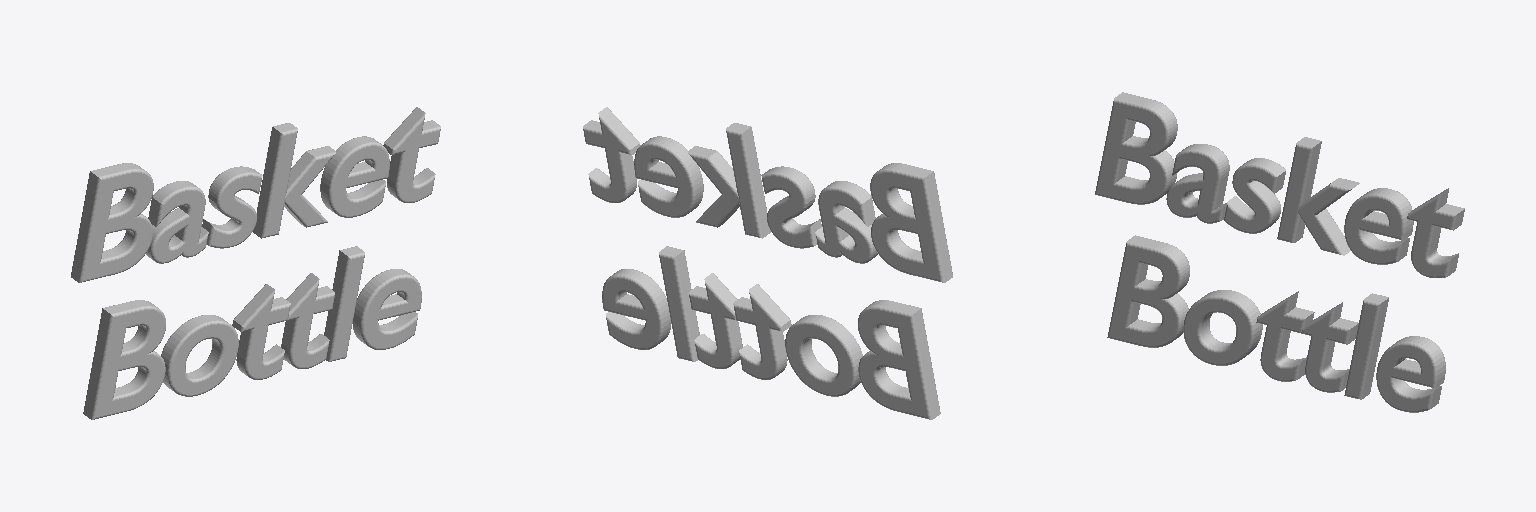
File: title.obj
3 views of the same model, side by side, from view 1: azimuth 30°, elevation 25°; view 2: azimuth 150°, elevation 25°; view 3: azimuth 330°, elevation 25° (orthographic).
Visible parts, largest first — view 1: Text_mesh_Text.001; view 2: Text_mesh_Text.001; view 3: Text_mesh_Text.001.
Boxes of the visible parts, box(x1,y1,x2,y2) form: Text_mesh_Text.001: box(71, 107, 440, 419); Text_mesh_Text.001: box(583, 107, 952, 419); Text_mesh_Text.001: box(1095, 92, 1464, 412).
Bounding box in the file's own units: 1.6 × 1.03 × 0.083.